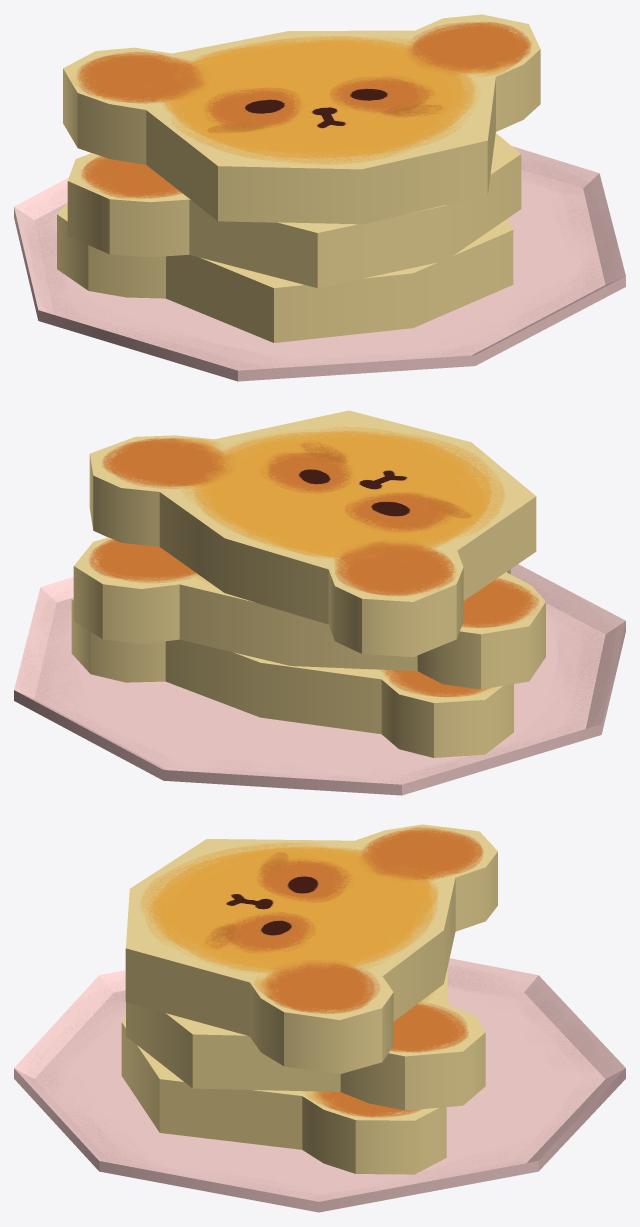
Rendered from PandaCakes.fbx.
The picture shows the model from 3 angles, top to bottom: view 1: azimuth 30°, elevation 25°; view 2: azimuth 150°, elevation 25°; view 3: azimuth 270°, elevation 25°; orthographic projection.
Visible parts, largest first — view 1: Pancakes2, PlatoRedondo, Pancakes1, Pancakes; view 2: Pancakes2, PlatoRedondo, Pancakes1, Pancakes; view 3: Pancakes2, PlatoRedondo, Pancakes1, Pancakes.
Boxes of the visible parts, left/top/right/bottom form: Pancakes2: left=63, top=14, right=540, bottom=224; PlatoRedondo: left=14, top=146, right=625, bottom=381; Pancakes1: left=67, top=133, right=521, bottom=288; Pancakes: left=57, top=203, right=513, bottom=342; Pancakes2: left=89, top=410, right=536, bottom=657; PlatoRedondo: left=14, top=564, right=625, bottom=795; Pancakes1: left=73, top=537, right=545, bottom=689; Pancakes: left=71, top=583, right=527, bottom=757; Pancakes2: left=125, top=824, right=497, bottom=1074; PlatoRedondo: left=14, top=958, right=625, bottom=1212; Pancakes1: left=126, top=969, right=485, bottom=1110; Pancakes: left=121, top=1015, right=446, bottom=1174.
Size of the model in its own units: 5.65 by 1.72 by 5.44.
